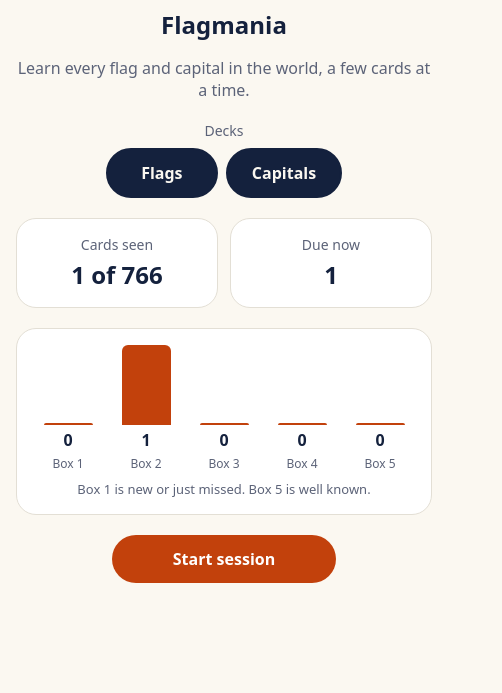
a fresh start for every card › does not carry a held drag over to the next card
Click the button "Start session" at (224, 559), box top-left (112, 535), bottom-right (336, 583)
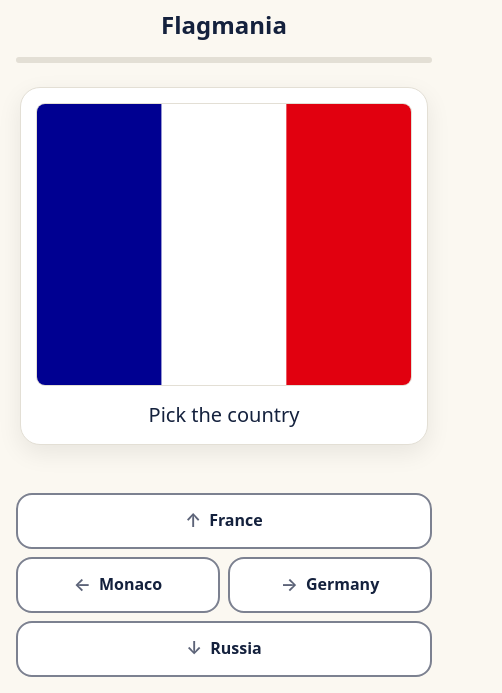
Now the text "Pick the country" is shown, box top-left (148, 400), bottom-right (299, 428)
Press the mouse on the element with class "swipe-card" at (224, 266), box top-left (20, 87), bottom-right (428, 444)
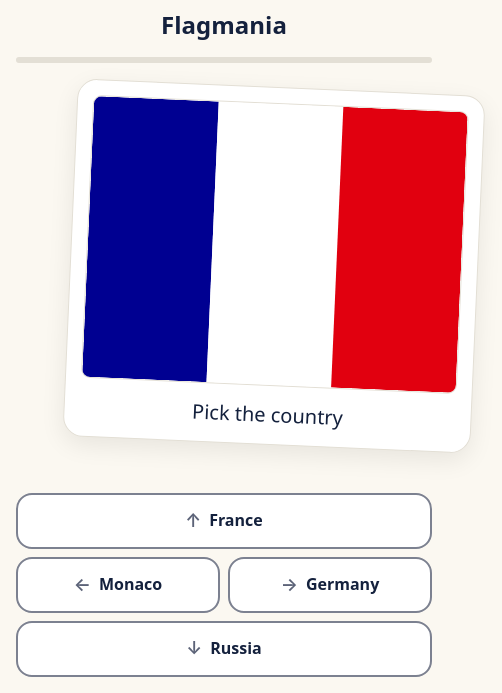
Press d
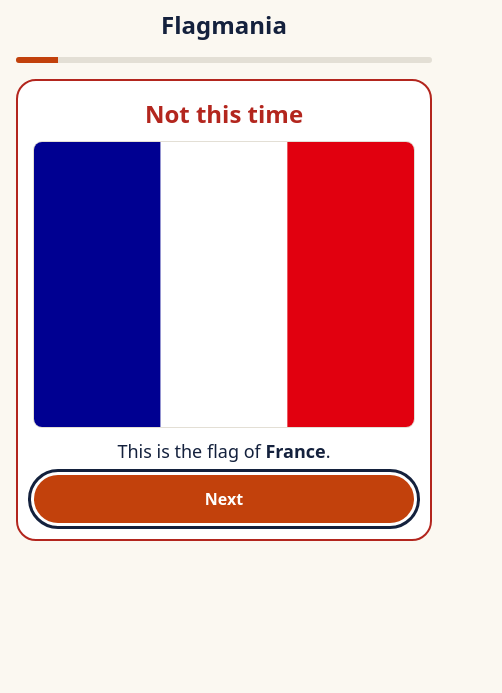
Now the button "Next" is shown, box top-left (34, 475), bottom-right (414, 523)
Press Enter
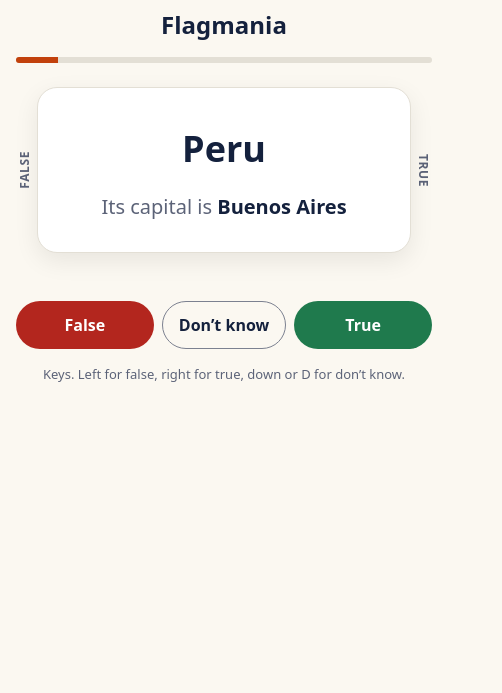
Now the button "True" is shown, box top-left (294, 301), bottom-right (432, 349)
Now the button "Next" is gone
